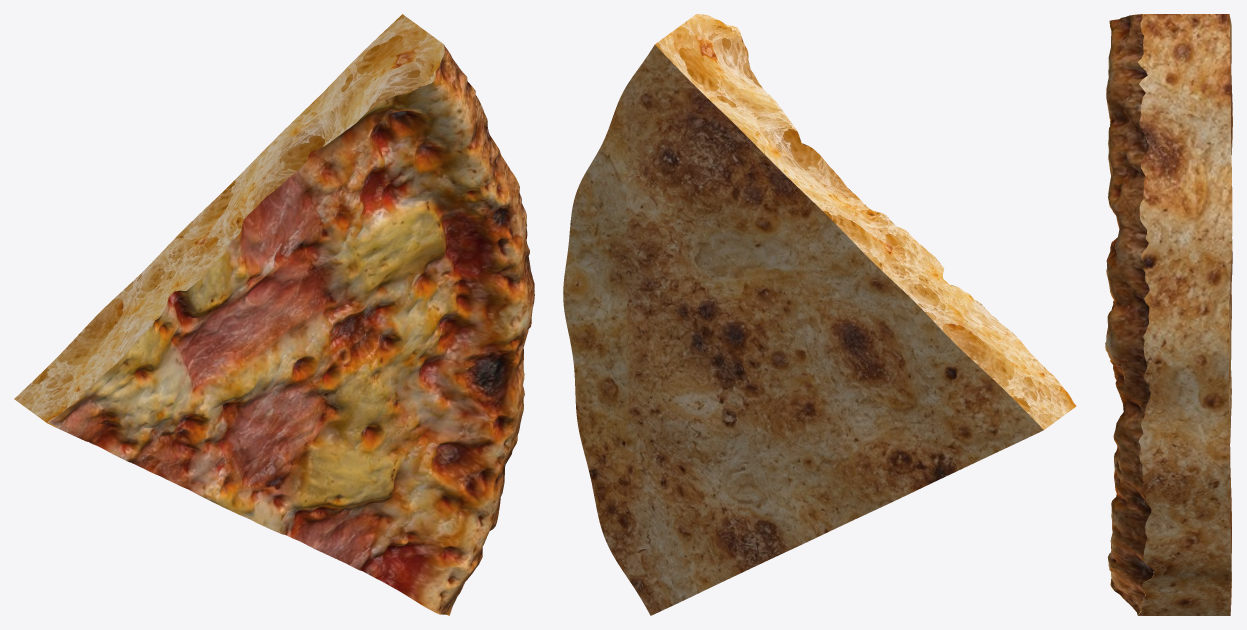
The picture shows the model from 3 angles, left to right: view 1: azimuth 30°, elevation 25°; view 2: azimuth 150°, elevation 25°; view 3: azimuth 270°, elevation 25°; orthographic projection. The views are drawn at different scales.
Parts seen in each view (by area): view 1: PizzaTop, CutFace_160; view 2: BakedUnderside, CutFace_160; view 3: BrownedCrustSide, PizzaTop, BakedUnderside.
Boxes of the visible parts, box(x1,y1,x2,y2) form: PizzaTop: box(49, 45, 534, 615); CutFace_160: box(14, 14, 444, 422); BakedUnderside: box(563, 45, 1043, 615); CutFace_160: box(655, 14, 1076, 429); BrownedCrustSide: box(1138, 14, 1232, 615); PizzaTop: box(1105, 14, 1153, 615); BakedUnderside: box(1228, 16, 1232, 611).
Size of the model in its own units: 0.1157 by 0.1315 by 0.0254.
5 materials, 5 textured.
